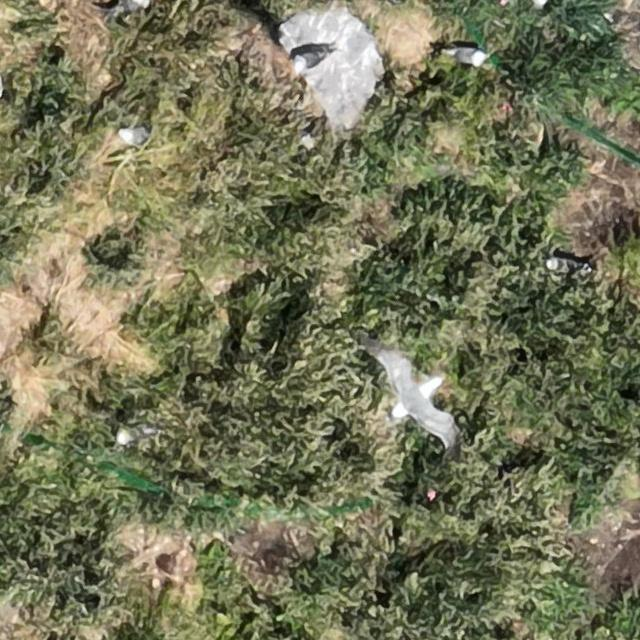F: (394, 364, 454, 442)
umineko: (450, 47, 487, 65), (116, 427, 153, 445), (294, 50, 324, 70), (548, 256, 581, 272), (120, 126, 147, 144), (116, 0, 149, 9)
